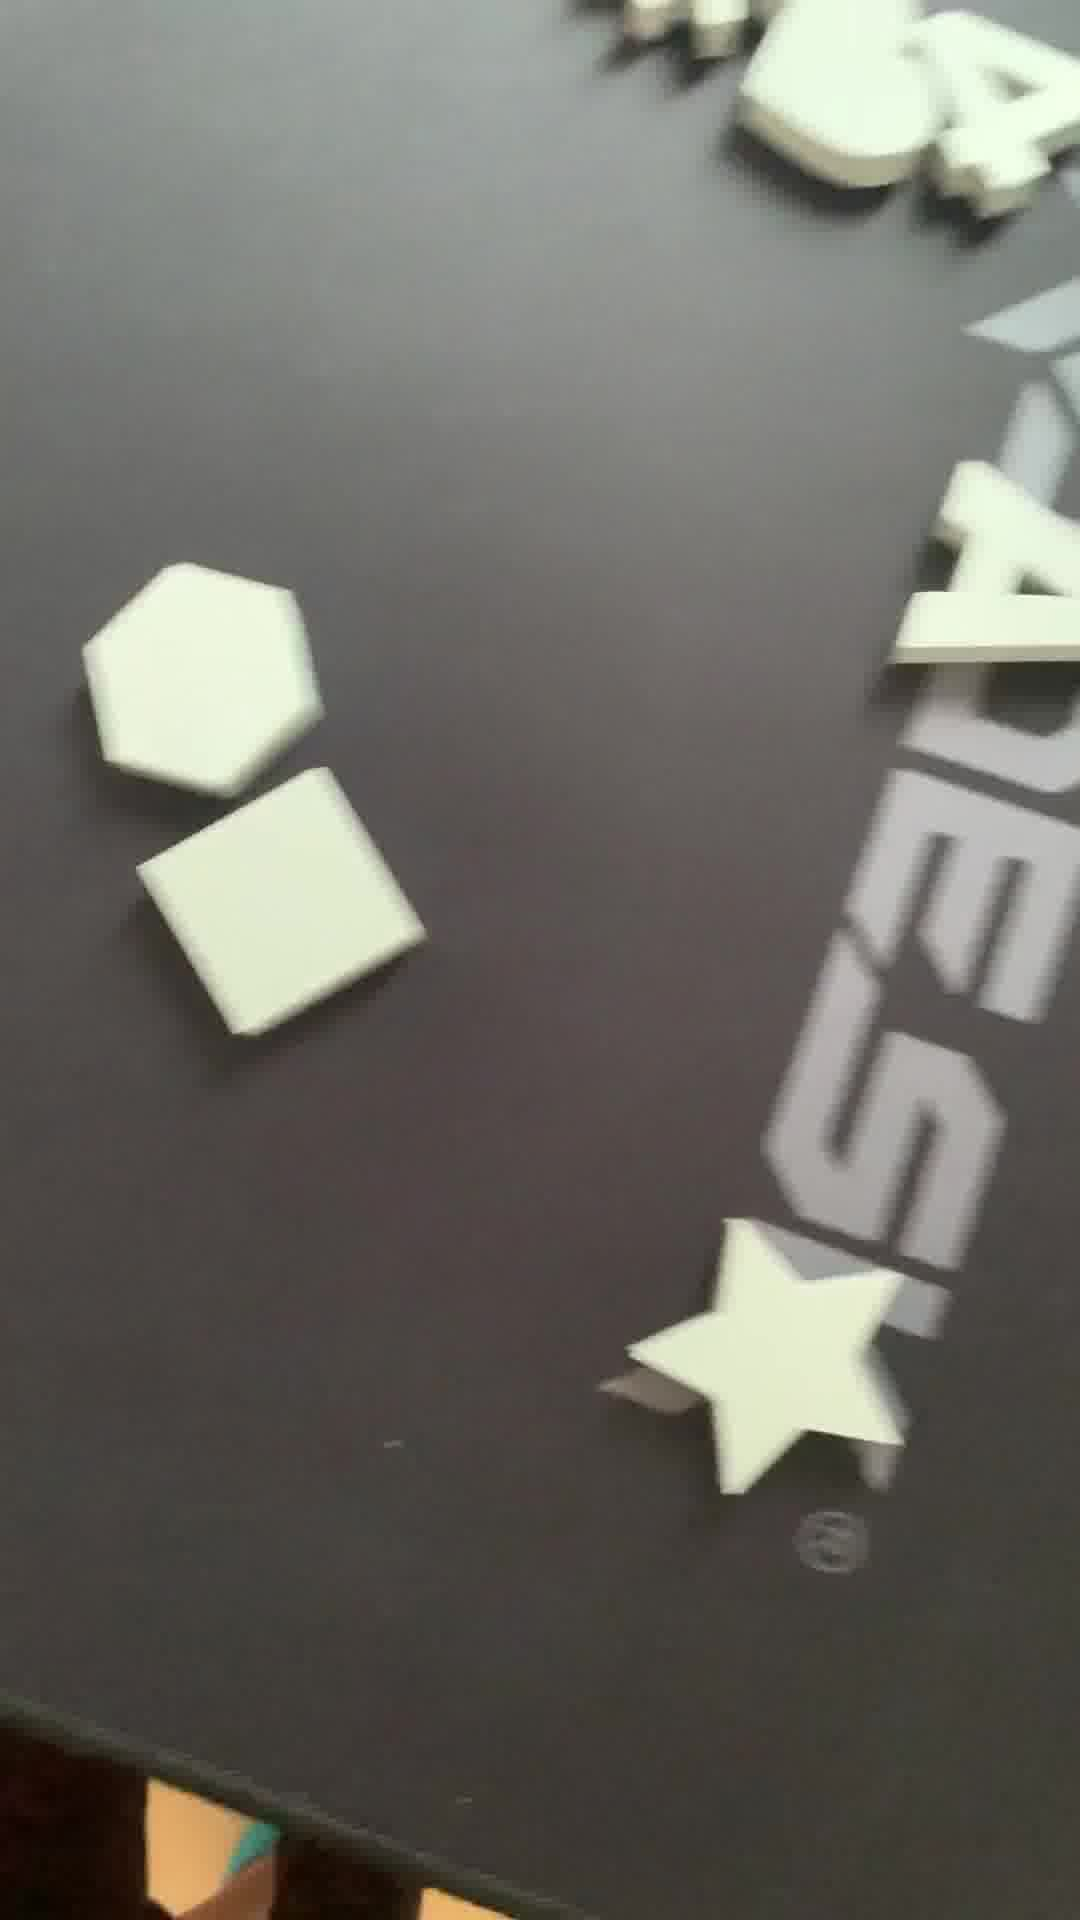Gray A-letter: (905, 469, 1080, 667)
Gray four: (934, 1, 1080, 240)
Gray gear: (589, 1, 766, 57)
Gray heart: (735, 1, 924, 193)
Gray hexagon: (94, 579, 353, 791)
Gray square: (153, 783, 419, 1065)
Gray star: (633, 1226, 895, 1495)
